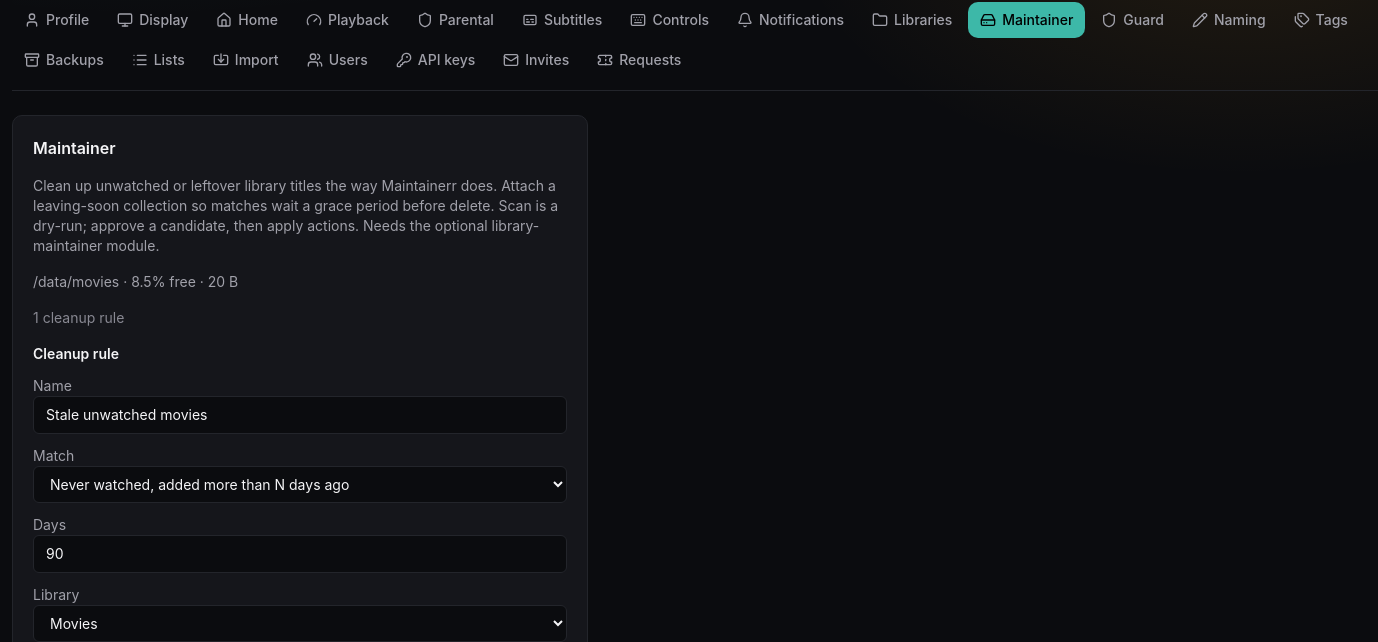
Test: Settings page › saves a household maintainer cleanup rule
Replace the text in the number field named "Maintainer rule days" with "120" at (300, 554), box [33, 535, 567, 573]
(page scrolled)
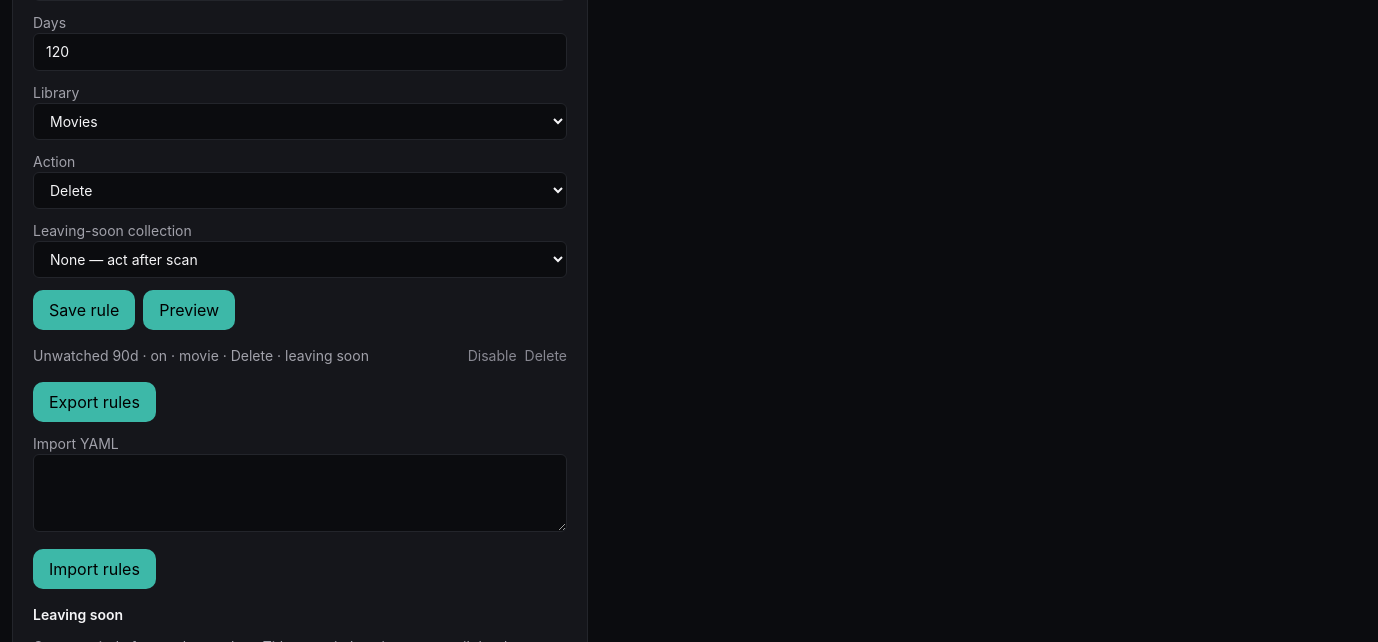
Click the button "Save rule".
click(84, 310)  # box [33, 290, 135, 330]
(page scrolled)
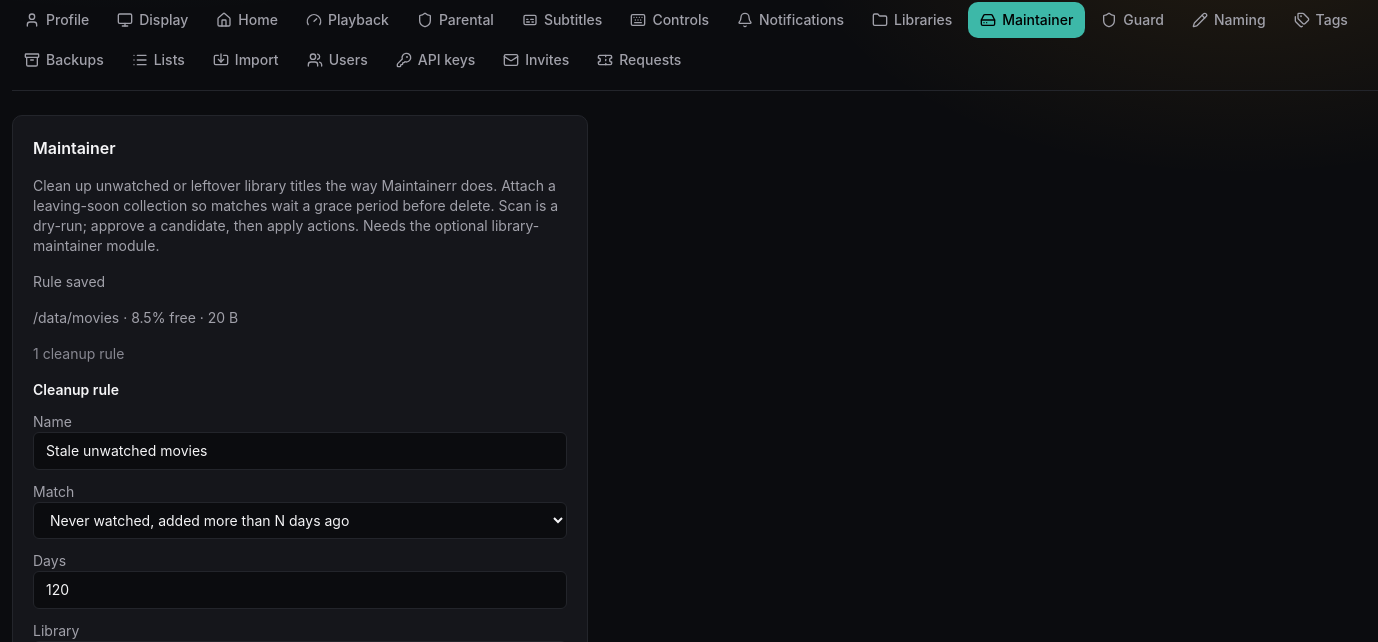
Check: the text with test id "maintainer-flash" reads "Rule saved", box [33, 273, 105, 290]
